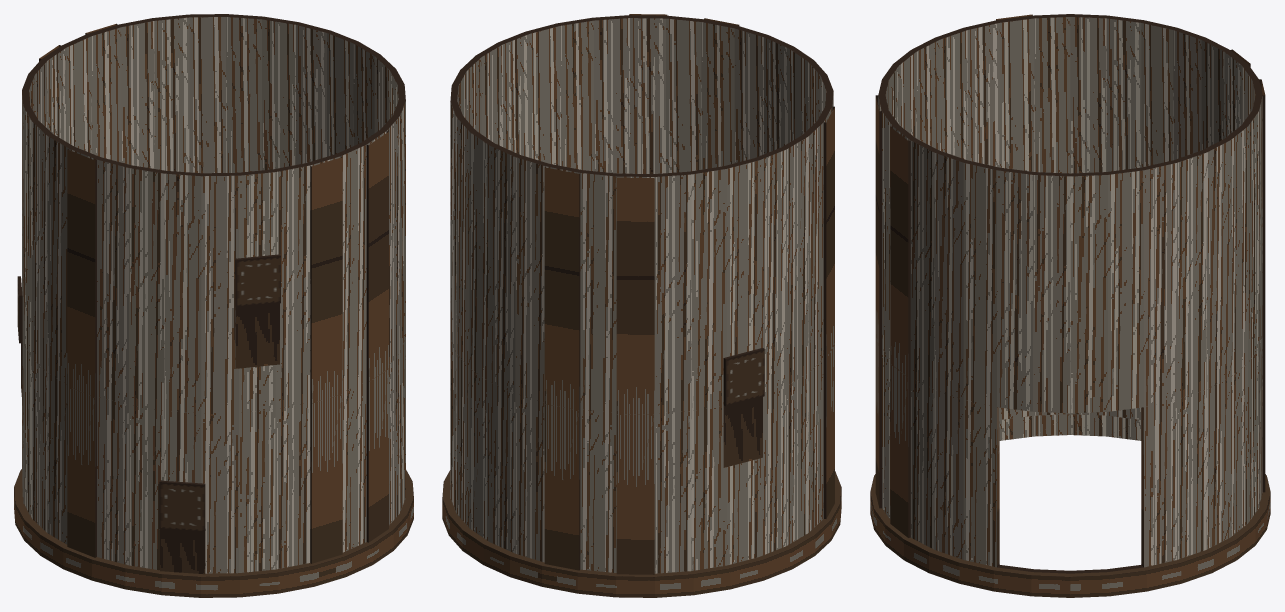
Rendered from TOR-01_Fuste_de_torre_c_porton.gltf.
The picture shows the model from 3 angles, left to right: view 1: azimuth 30°, elevation 25°; view 2: azimuth 150°, elevation 25°; view 3: azimuth 270°, elevation 25°; orthographic projection.
Parts seen in each view (by area): view 1: TOR-01_Fuste_de_torre_c_porton-col; view 2: TOR-01_Fuste_de_torre_c_porton-col; view 3: TOR-01_Fuste_de_torre_c_porton-col.
Boxes of the visible parts, x1,y1,x2,y2 form: TOR-01_Fuste_de_torre_c_porton-col: (14,14,413,597); TOR-01_Fuste_de_torre_c_porton-col: (442,14,841,597); TOR-01_Fuste_de_torre_c_porton-col: (870,14,1270,597).
Size of the model in its own units: 5.21 by 6 by 5.21.
Materials: 1 (1 with a texture image).
